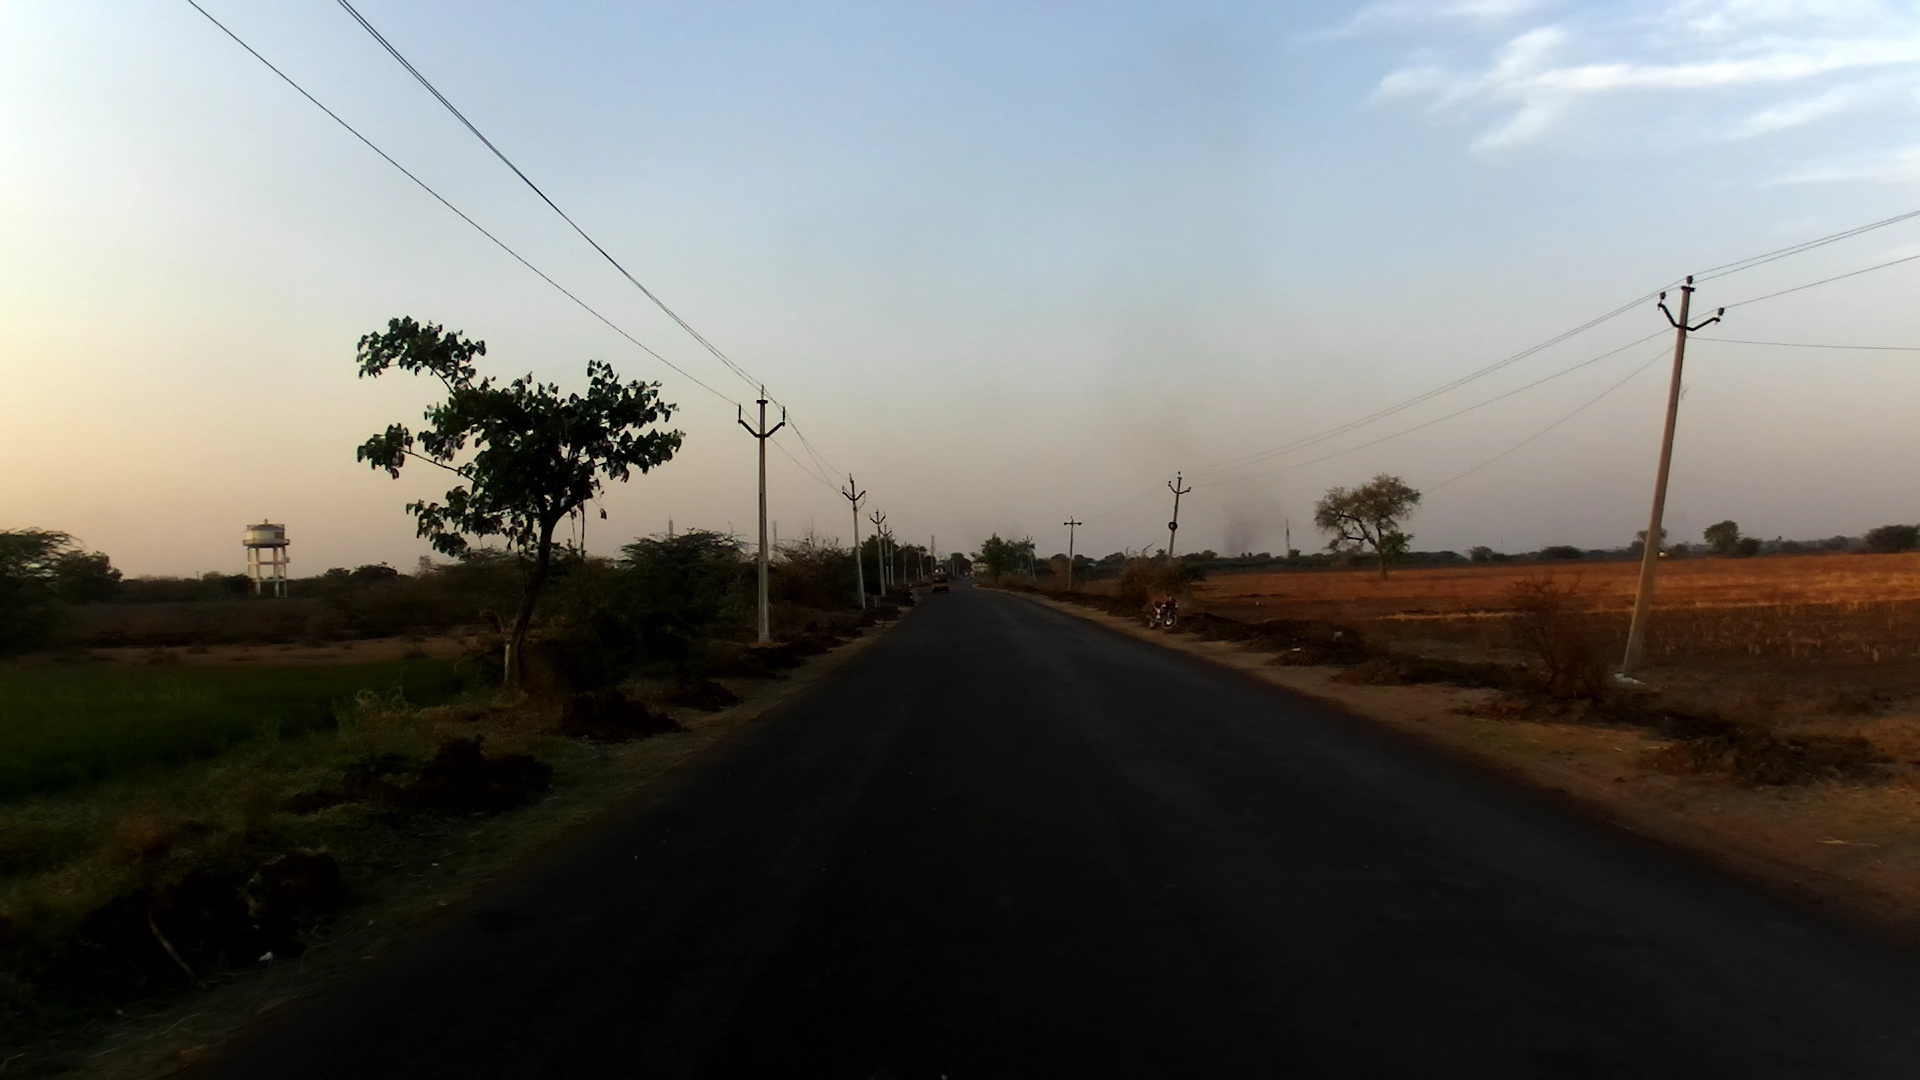autorickshaw: (927, 568, 952, 597)
motorcycle: (1145, 585, 1182, 636)
vehicle fallback: (968, 570, 976, 582)
